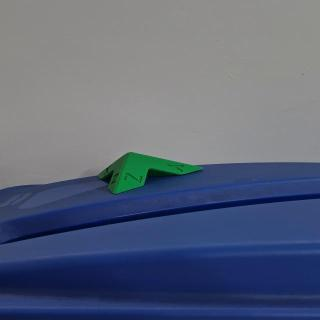eje: (97, 151, 205, 195)
